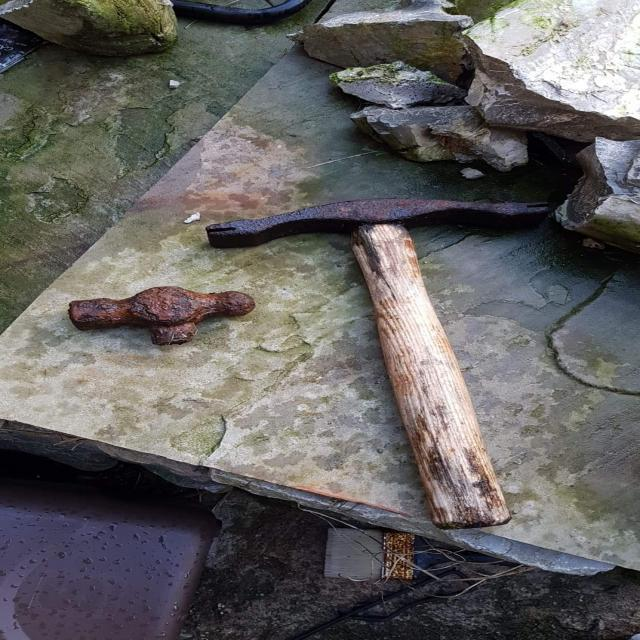hammer: (201, 190, 565, 531)
